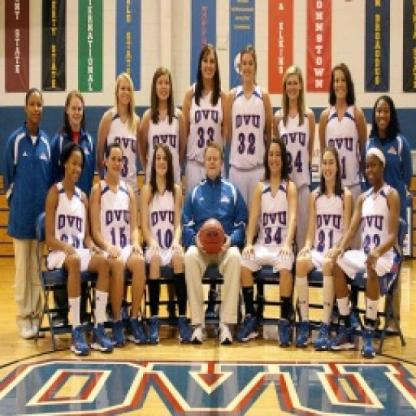basketball: (196, 217, 226, 256)
